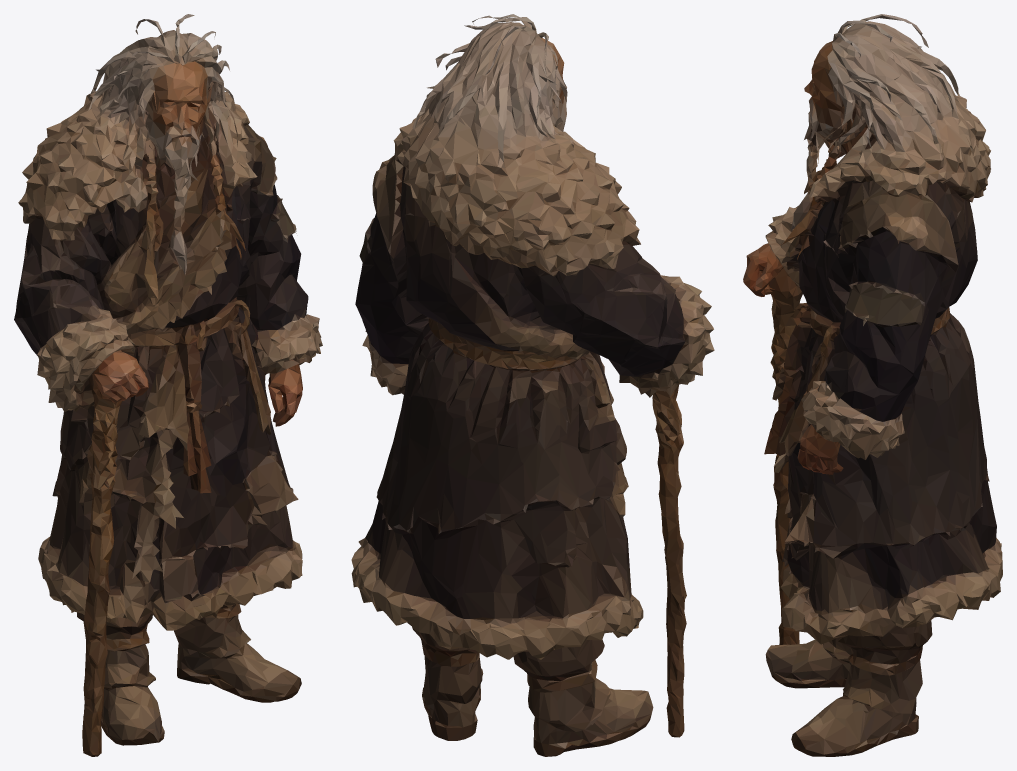
The model's file is fig_eld_npc.glb.
The picture shows the model from 3 angles, left to right: view 1: azimuth 30°, elevation 25°; view 2: azimuth 150°, elevation 25°; view 3: azimuth 270°, elevation 25°; orthographic projection. The views are drawn at different scales.
Visible parts, largest first — view 1: fig; view 2: fig; view 3: fig.
Part boxes in pixels (bbox=[...]): fig: bbox=[14, 14, 322, 756]; fig: bbox=[351, 14, 714, 756]; fig: bbox=[743, 14, 1002, 756].
Bounding box in the file's own units: 0.8807 × 1.9 × 0.6437.
